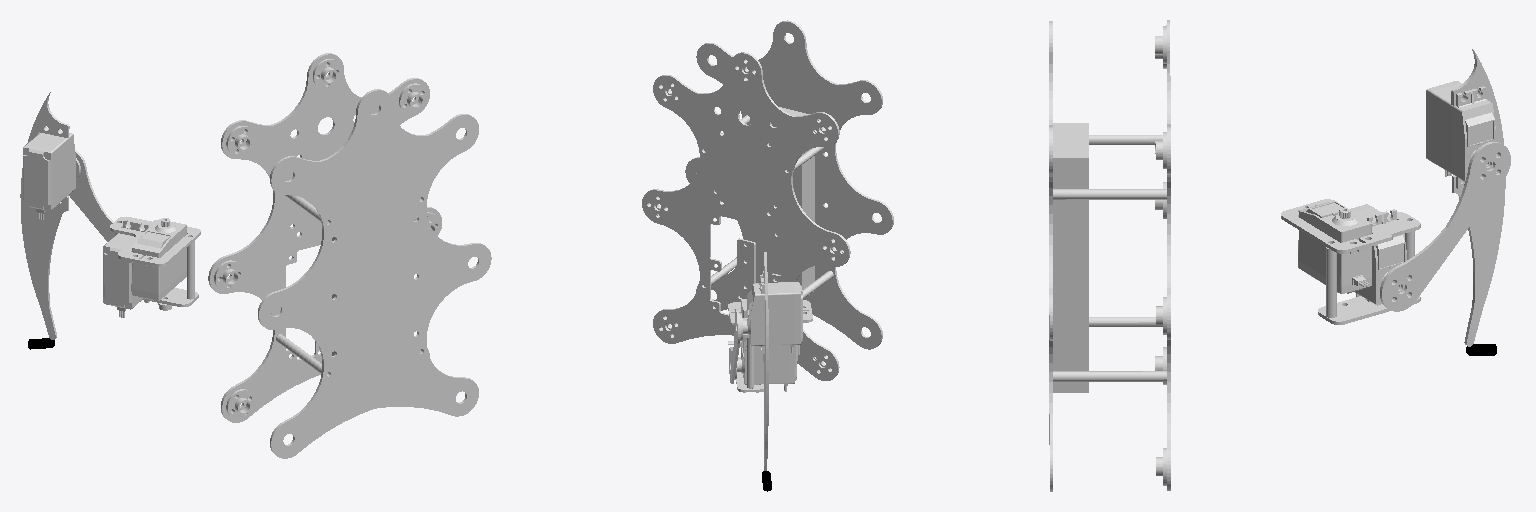
The robot description file, URDF, robot "goliath":
<?xml version="1.0"?>
<robot name="goliath">

  <material name="alumunium">
    <color rgba="0.9 0.9 0.9 1"/>
  </material>

  <material name="rubber">
    <color rgba="0 0 0 1"/>
  </material>

 <link name="body_link">
    <visual>
      <geometry>
      <mesh filename="package://goliath_description/meshes/body.stl" scale= "0.001 0.001 0.001" />
      </geometry>
      <origin xyz="0.0 0.0 0.0448" rpy="1.57 0 -3.14"/>
      <material name="alumunium"/>
    </visual>
  </link>


<link name="lf_coxa_link">
  <visual>
    <geometry>
    <mesh filename="package://goliath_description/meshes/coxa.stl" scale= "0.001 0.001 0.001" />
    </geometry>
    <origin xyz="0.0 0.0 0.0433" rpy="0 0 -3.14"/>
    <material name="alumunium"/>
  </visual>
</link>

<joint name="lf_coxa_joint" type="revolute">
  <parent link="body_link"/>
  <child link="lf_coxa_link"/>
  <origin xyz="-0.063 0.092 0.00" rpy="0 0 2.17"/>
  <limit effort="1.0" velocity="1.0" lower="-3.14" upper="3.14"/>
  <axis xyz="0 0 1"/>
</joint>

<link name="lf_femur_link">
  <visual>
    <geometry>
      <mesh filename="package://goliath_description/meshes/femur.stl" scale= "0.001 0.001 0.001" />
    </geometry>
    <origin xyz="0 -0.0176 0.0" rpy="0.0 -1.57 0"/>
    <material name="alumunium"/>
  </visual>
</link>

<joint name="lf_femur_joint" type="revolute">
  <parent link="lf_coxa_link"/>
  <child link="lf_femur_link"/>
  <origin xyz="0.022 0.00 0.00" rpy="0 -0.785 0.0"/>
  <limit effort="1.0" velocity="1.0" lower="-3.14" upper="3.14"/>
  <axis xyz="0 1 0"/>
</joint>

<link name="lf_tibia_link">
  <visual>
    <geometry>
       <mesh filename="package://goliath_description/meshes/tibia.stl" scale= "0.001 0.001 0.001" />
    </geometry>
    <origin xyz="0.0 -0.0176 0.0" rpy="3.14 -1.57 0"/>
    <material name="alumunium"/>
  </visual>
</link>

<joint name="lf_tibia_joint" type="revolute">
  <parent link="lf_femur_link"/>
  <child link="lf_tibia_link"/>
  <origin xyz="0.08 0.0 0.0" rpy="0 -0.785 0"/>
  <limit effort="1.0" velocity="1.0" lower="-3.14" upper="3.14"/>
  <axis xyz="0 1 0"/>
</joint>

<link name="lf_tarsus_link">
  <visual>
    <geometry>
       <mesh filename="package://goliath_description/meshes/leg_end.stl" scale= "0.001 0.001 0.001" />
    </geometry>
    <origin xyz="0.0 0.0 0.0" rpy="0 1.83 0"/>
    <material name="rubber"/>
  </visual>
</link>

<joint name="lf_tarsus_joint" type="fixed">
  <parent link="lf_tibia_link"/>
  <child link="lf_tarsus_link"/>
  <origin xyz="-0.115 0.0 0"/>
</joint>

<!-- Right front leg

  <link name="rf_coxa_link">
    <visual>
      <geometry>
      <mesh filename="package://urdf_test/meshes/coxa_link_l.stl" scale= "0.001 0.001 0.001" />
      </geometry>
      <origin xyz="0.0 0.0 0.0433" rpy="0 0 -1.57"/>
    </visual>
  </link>

  <joint name="rf_coxa_joint" type="revolute">
    <parent link="upper_shassi_link"/>
    <child link="rf_coxa_link"/>
    <origin xyz="0.063 0.092 0.00" rpy="0 0 0.61"/>
    <limit effort="1.0" velocity="1.0" lower="-3.14" upper="3.14"/>
    <axis xyz="0 0 1"/>
  </joint>

  <link name="rf_femur_link">
    <visual>
      <geometry>
        <mesh filename="package://urdf_test/meshes/femur_link_l.stl" scale= "0.001 0.001 0.001" />
      </geometry>
      <origin xyz="0.0176 0.0 0.0" rpy="0.0 -1.57 1.57"/>
    </visual>
  </link>

  <joint name="rf_femur_joint" type="revolute">
    <parent link="rf_coxa_link"/>
    <child link="rf_femur_link"/>
    <origin xyz="0.022 0.00 0.00" rpy="0 -0.785 0"/>
    <limit effort="1.0" velocity="1.0" lower="-3.14" upper="3.14"/>
    <axis xyz="0 1 0"/>
  </joint>

  <link name="rf_tibia_link">
    <visual>
      <geometry>
         <mesh filename="package://urdf_test/meshes/tibia_link_l.stl" scale= "0.001 0.001 0.001" />
      </geometry>
      <origin xyz="0.0176 0.0 0.0" rpy="0 0 -1.57"/>
    </visual>
  </link>

  <joint name="rf_tibia_joint" type="revolute">
    <parent link="rf_femur_link"/>
    <child link="rf_tibia_link"/>
    <origin xyz="0.08 0.0 0.0" rpy="0 -0.785 0"/>
    <limit effort="1.0" velocity="1.0" lower="-3.14" upper="3.14"/>
    <axis xyz="0 1 0"/>
  </joint>

<link name="rf_tarsus_link">
    <visual>
      <geometry>
         <mesh filename="package://urdf_test/meshes/leg_end_link.stl" scale= "0.001 0.001 0.001" />
      </geometry>
      <origin xyz="0.0 0.0 0.0" rpy="-0.25 0 0"/>
    </visual>
  </link>

  <joint name="rf_tarsus_joint" type="fixed">
    <parent link="rf_tibia_link"/>
    <child link="rf_tarsus_link"/>
    <origin xyz="-0.115 0.0 0.0 "/>
  </joint>
-->
</robot>

--- Render facts (derived) ---
Views: 3 orthographic renders of the robot side by side, from view 1: azimuth 30°, elevation 25°; view 2: azimuth 150°, elevation 25°; view 3: azimuth 270°, elevation 25°.
Robot: goliath — 5 links, 4 joints (3 revolute, 1 fixed); root link body_link; default pose: all joints at 0.
Links seen in each view (by area): view 1: body_link, lf_coxa_link, lf_tibia_link, lf_femur_link; view 2: body_link, lf_tibia_link, lf_coxa_link, lf_femur_link; view 3: body_link, lf_coxa_link, lf_tibia_link, lf_femur_link.
Boxes of the visible links, x1,y1,x2,y2 form: body_link: [208, 53, 491, 458]; lf_coxa_link: [103, 217, 200, 317]; lf_tibia_link: [20, 92, 75, 339]; lf_femur_link: [69, 150, 114, 241]; body_link: [642, 20, 893, 380]; lf_tibia_link: [747, 252, 802, 470]; lf_coxa_link: [728, 299, 812, 392]; lf_femur_link: [729, 309, 747, 383]; body_link: [1049, 20, 1170, 491]; lf_coxa_link: [1281, 199, 1420, 324]; lf_tibia_link: [1426, 49, 1505, 346]; lf_femur_link: [1380, 142, 1510, 311].
Bounding box of the posed robot: 0.2186 × 0.2437 × 0.2478 m (x, y, z).
5 mesh visuals loaded from 5 distinct referenced files (5 binary STL).